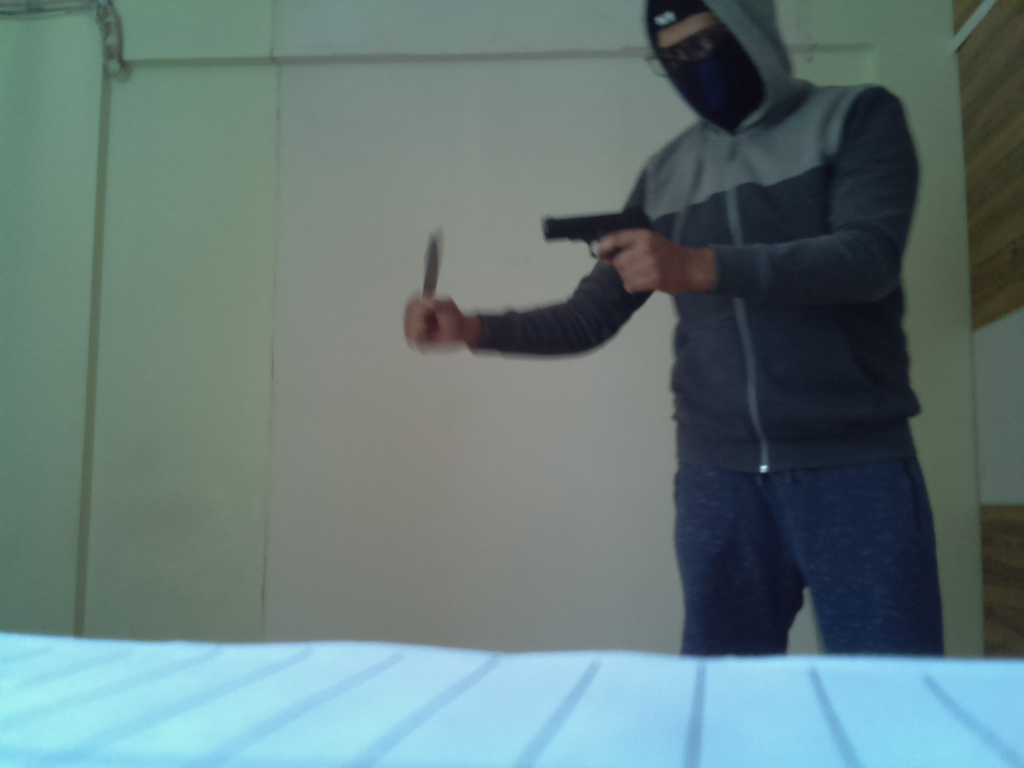gun: (540, 202, 658, 271)
